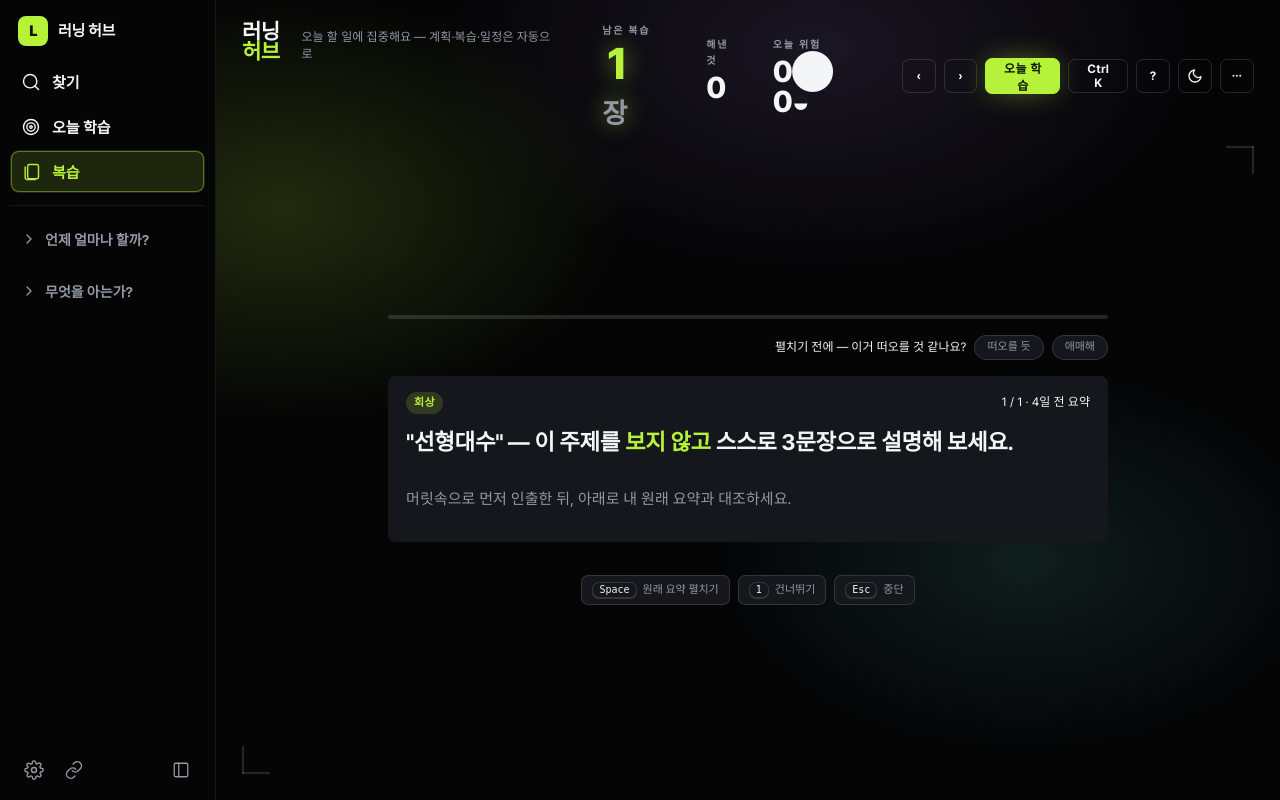
Test case: review-run: 회상 카드 흐름 — 렌더 → 펼침 → 판정 → 세션 완료
The width and height of the screenshot is (1280, 800).
expect the text "회상" is shown: met, box [406, 392, 443, 414]
expect the button "다시 설명했어요" is not shown: met
Click the button "Space 원래 요약 펼치기" at (656, 590), box [581, 575, 730, 605]
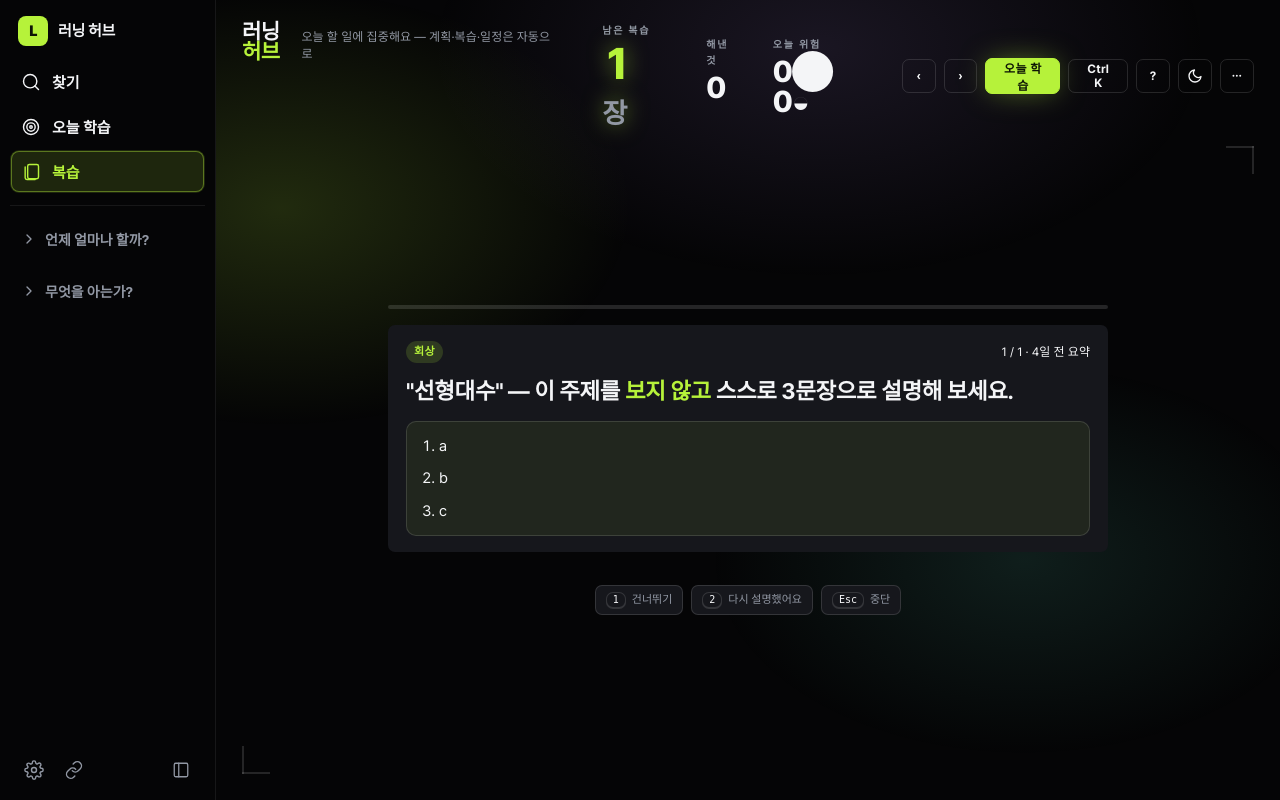
Click the button "2 다시 설명했어요" at (752, 600), box [691, 585, 813, 615]
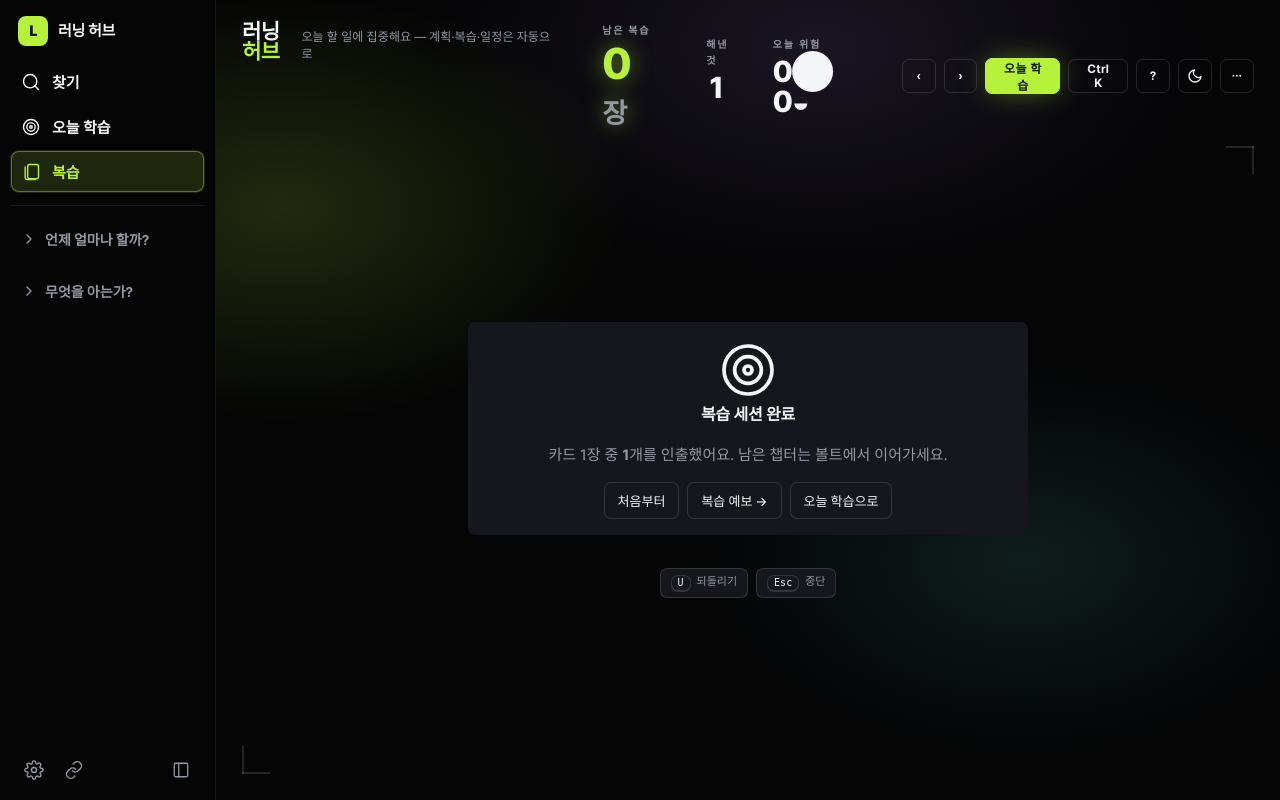
expect the heading "복습 세션 완료" is shown: met, box [701, 405, 795, 424]
expect the text "카드 1장 중 1개를 인출했어요. 남은 챕터는 볼트에서 이어가세요." is shown: met, box [548, 446, 948, 464]
